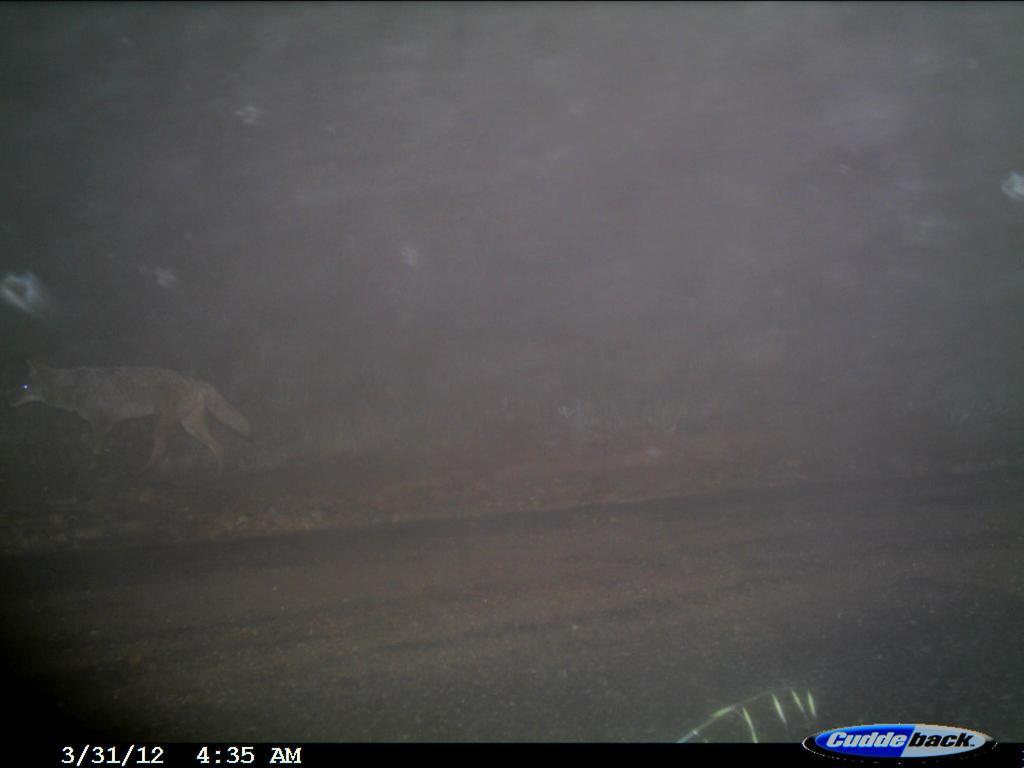coyote: (17, 350, 259, 489)
